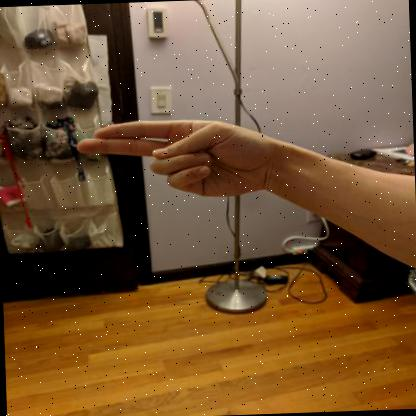H: (76, 120, 282, 198)
